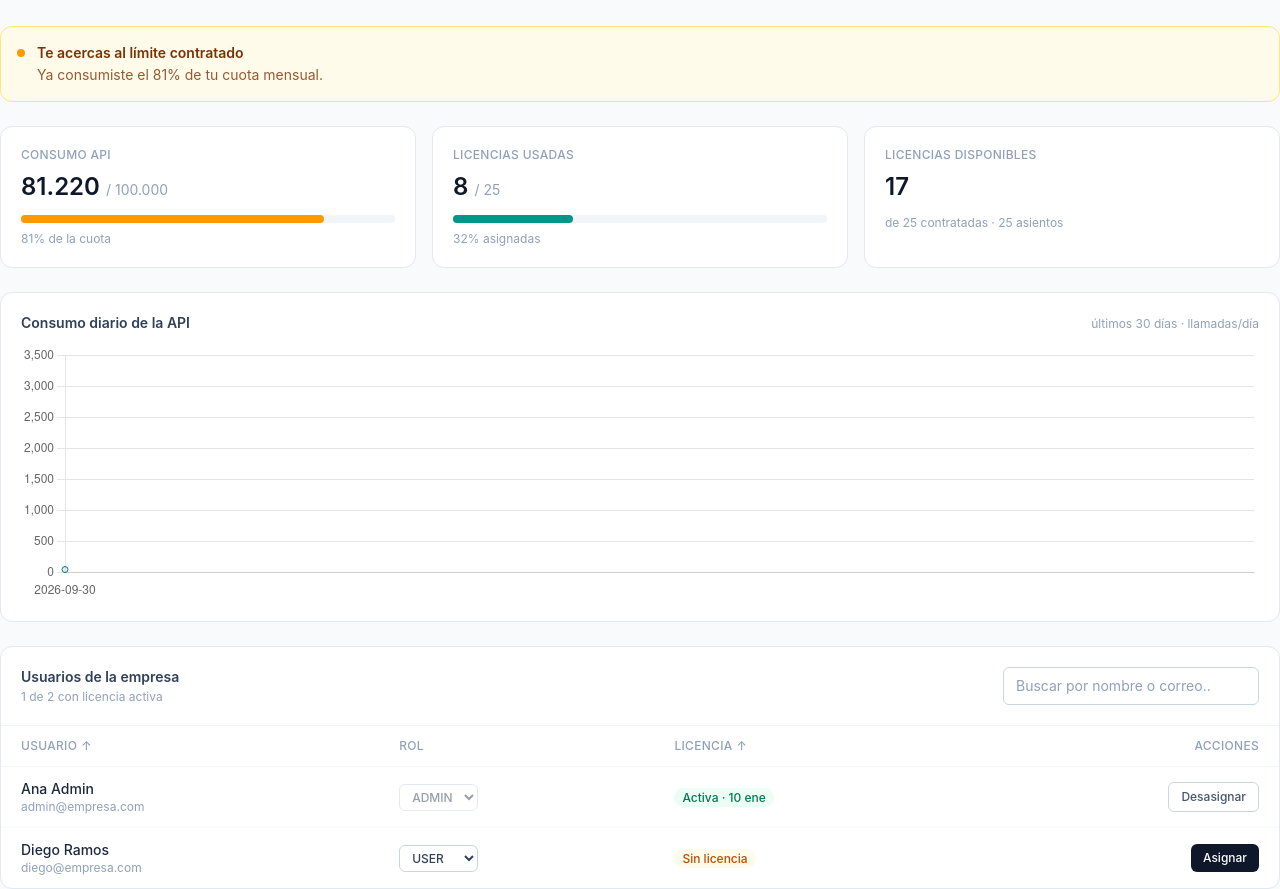
Test: dashboard view › rolls back the role selector when the update fails
(page scrolled)
Select "ADMIN" in the dropdown named "Rol de Diego Ramos" at (439, 858), box [399,844,478,872]
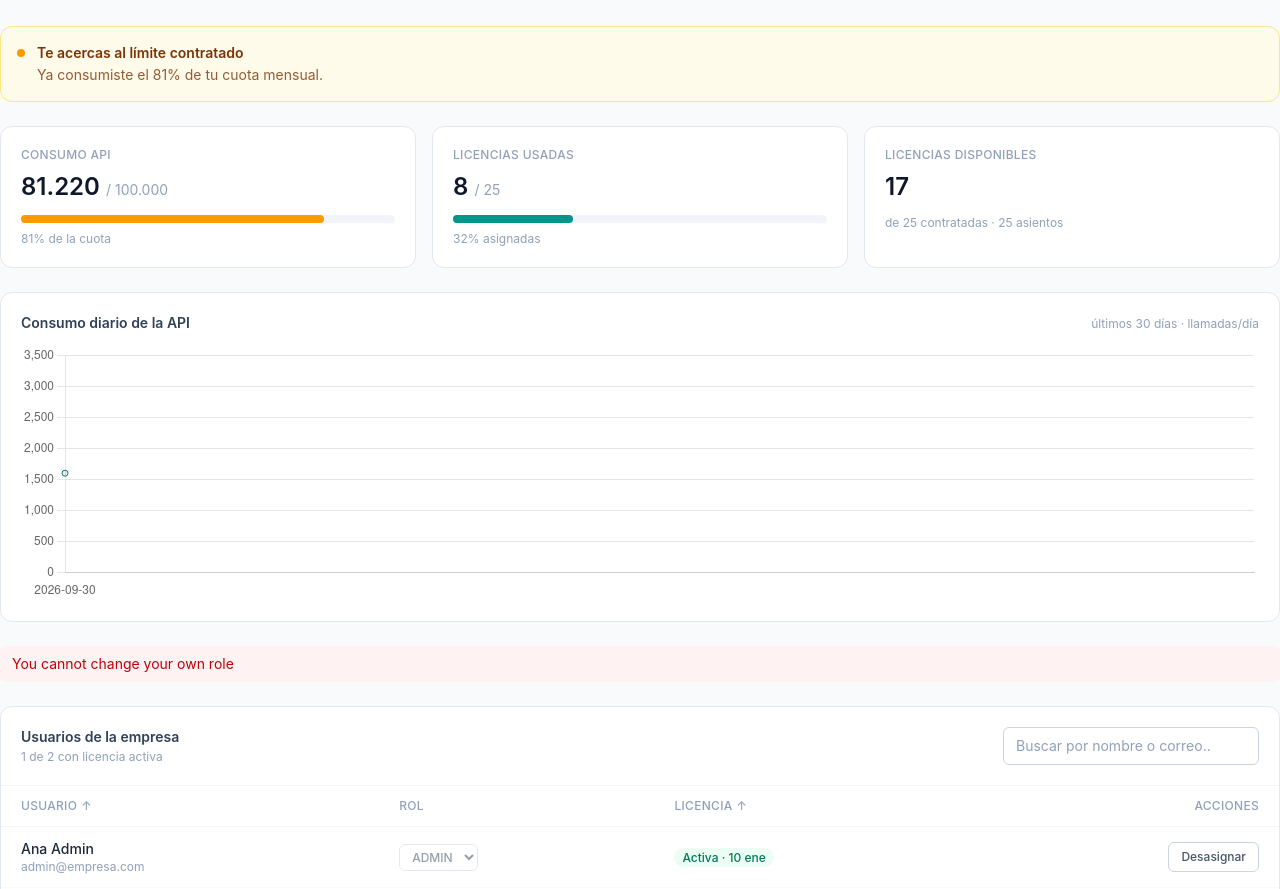
Now the message "You cannot change your own role" is shown, box [0,646,1279,682]
